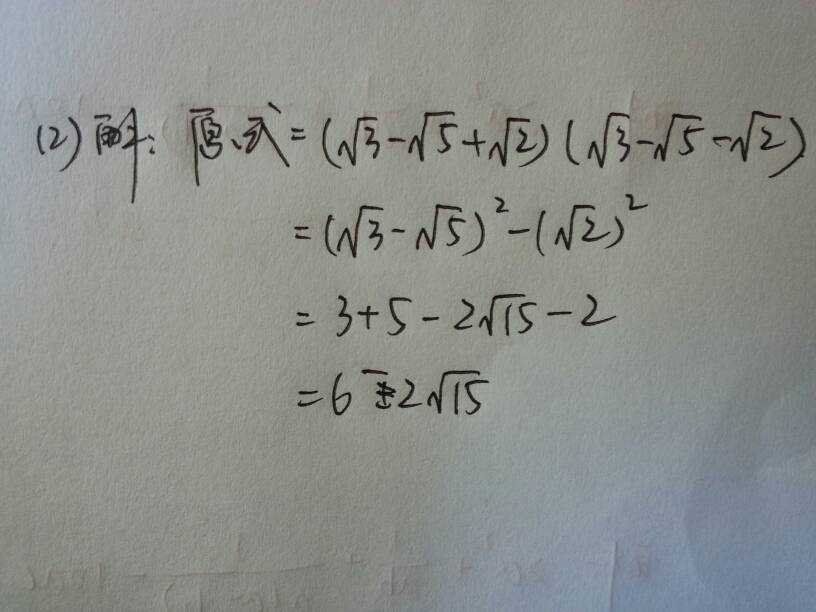sqrt: (419, 366, 489, 421), (730, 103, 787, 164), (584, 99, 635, 166), (476, 289, 536, 344), (484, 112, 538, 173), (333, 200, 387, 258), (549, 202, 609, 254), (412, 200, 468, 255), (409, 109, 461, 165), (338, 114, 385, 169), (654, 109, 699, 164)
square: (622, 188, 647, 214), (488, 193, 511, 219)
